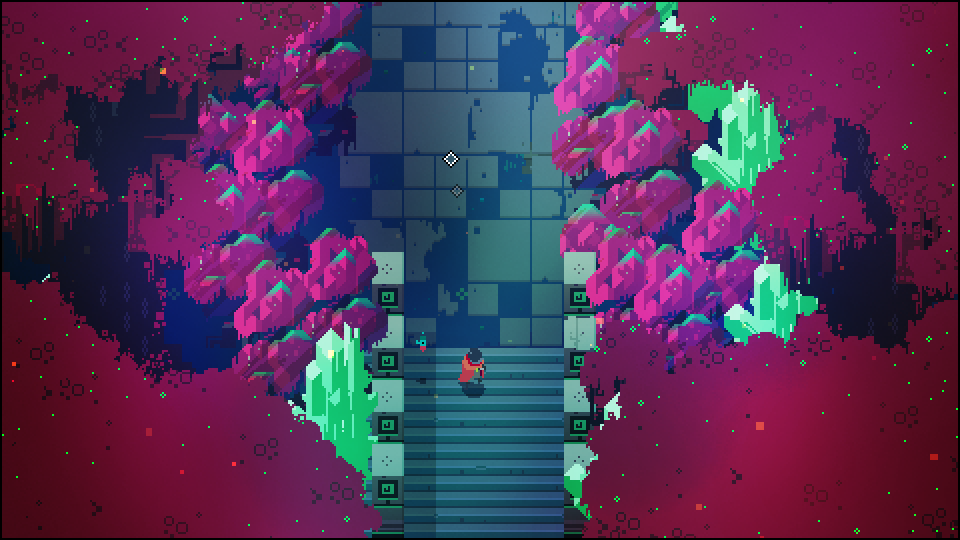player: (459, 344, 489, 390)
